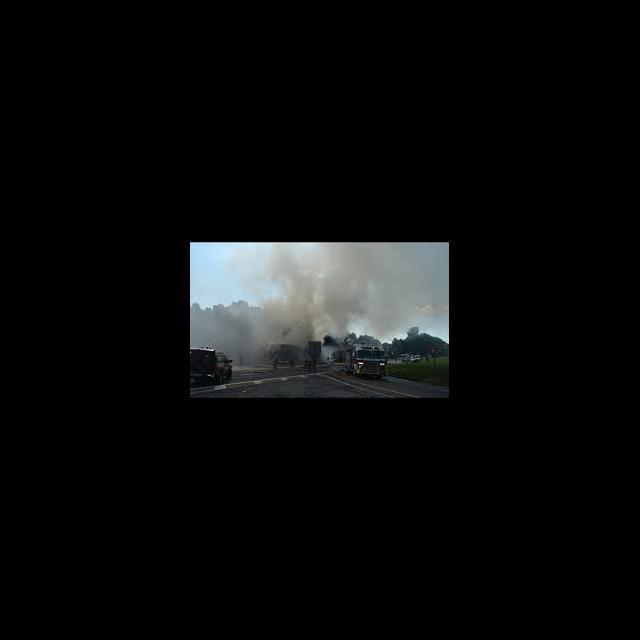Smoke: (224, 244, 430, 338)
